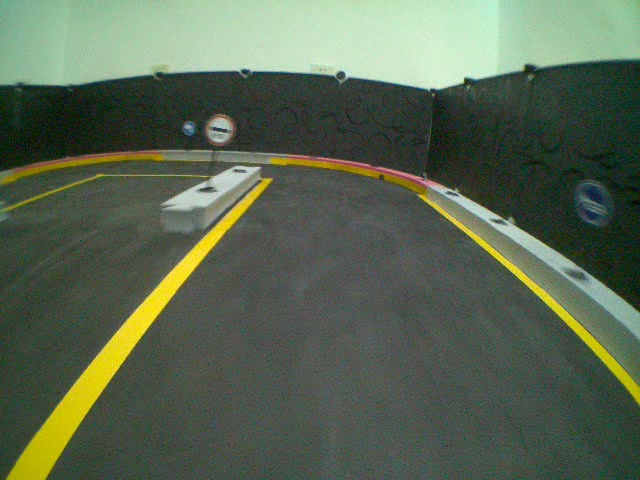Check: (203, 112, 234, 146)
horn: (573, 179, 615, 230)
turn: (181, 119, 197, 137)
